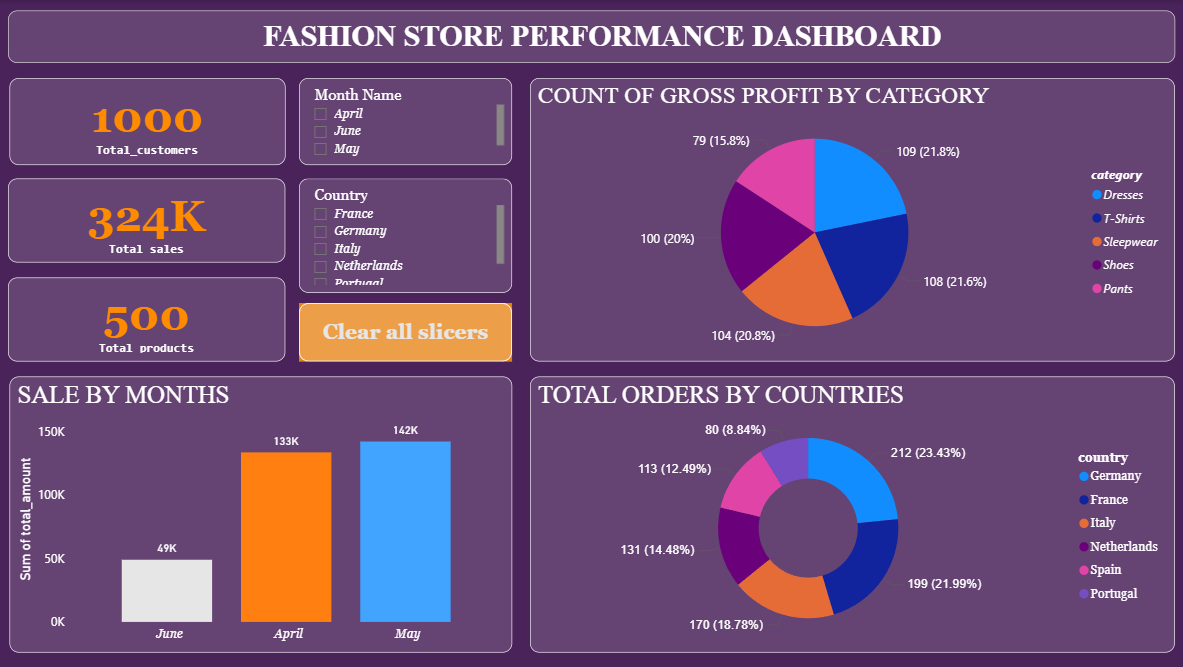

What the dashboard file says about the page in this screenshot:
{"tool":"powerbi","page":{"name":"Page 1","canvas":[1280,720],"ordinal":0},"visuals":[{"type":"textbox","box":[9.7,11.3,1259.8,56.7],"z":0},{"type":"card","fields":{"Values":["fashion_store_customers.Total_customers"]},"box":[11.3,84.2,297.9,93.9],"z":1000},{"type":"card","fields":{"Values":["fashion_store_products.Total_products"]},"box":[9.7,299.6,299.6,89.1],"z":2000},{"type":"card","fields":{"Values":["fashion_store_sales_items.Total_revenue"]},"box":[9.7,192.7,299.6,90.7],"z":3000},{"type":"columnChart","title":"SALE BY MONTHS ","fields":{"Category":["fashion_store_sales.Month Name"],"Y":["Sum(fashion_store_sales.total_amount)"]},"box":[11.3,406.4,542.4,297.9],"z":4000},{"type":"pieChart","title":"COUNT OF GROSS PROFIT BY CATEGORY","fields":{"Category":["fashion_store_products.category"],"Y":["CountNonNull(fashion_store_products.gross_profit)"]},"box":[573.2,84.2,696.3,306],"z":4001},{"type":"slicer","fields":{"Values":["fashion_store_sales.Month Name"]},"box":[323.8,84.2,229.9,93.9],"z":4002},{"type":"donutChart","title":"TOTAL ORDERS BY COUNTRIES","fields":{"Category":["fashion_store_sales.country"],"Y":["CountNonNull(fashion_store_sales.customer_id)"]},"box":[573.2,406.4,696.3,297.9],"z":4003},{"type":"actionButton","box":[323.8,299.6,229.9,89.1],"z":4004},{"type":"slicer","fields":{"Values":["fashion_store_customers.country"]},"box":[323.8,192.7,229.9,90.7],"z":4005}]}

Visuals, with their boxes in screenshot pixels (x1, y1, x2, y2), scaled from the page's 1280x720 canvas onto the 1183x667 screenshot:
textbox: crop(9, 10, 1173, 63)
card - fashion_store_customers.Total_customers: crop(10, 78, 286, 165)
card - fashion_store_products.Total_products: crop(9, 278, 286, 360)
card - fashion_store_sales_items.Total_revenue: crop(9, 179, 286, 263)
"SALE BY MONTHS " columnChart: crop(10, 376, 512, 652)
"COUNT OF GROSS PROFIT BY CATEGORY" pieChart: crop(530, 78, 1173, 361)
slicer - fashion_store_sales.Month Name: crop(299, 78, 512, 165)
"TOTAL ORDERS BY COUNTRIES" donutChart: crop(530, 376, 1173, 652)
actionButton: crop(299, 278, 512, 360)
slicer - fashion_store_customers.country: crop(299, 179, 512, 263)
